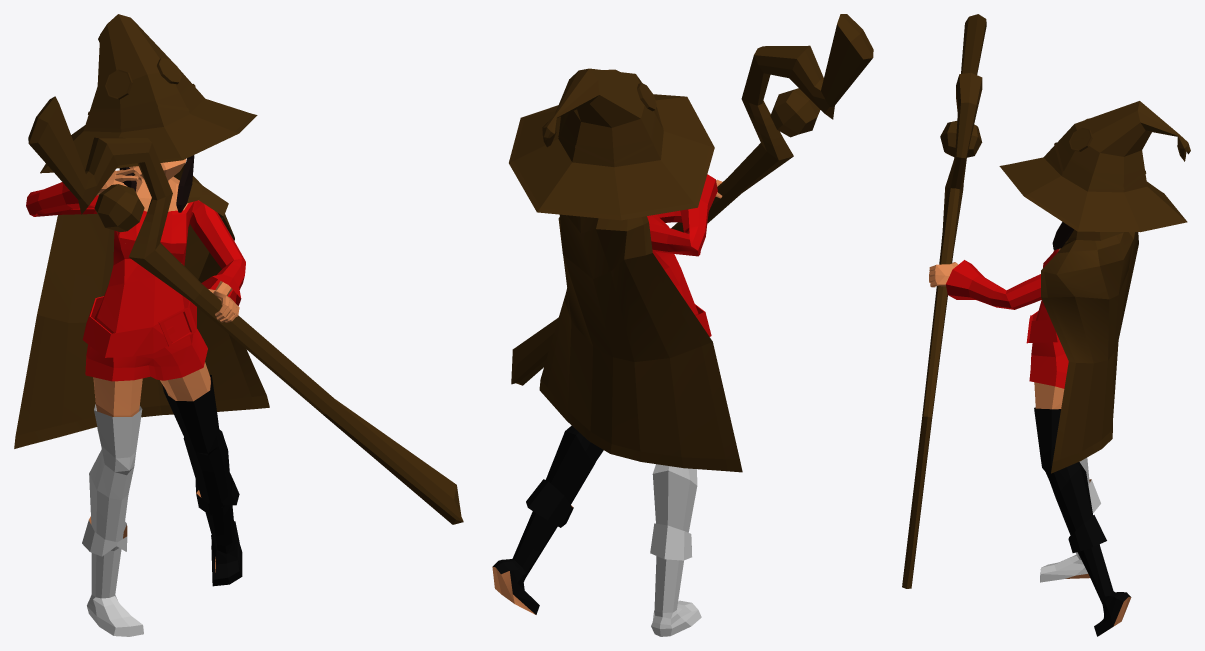
Rendered from megumi3.obj.
The picture shows the model from 3 angles, left to right: view 1: azimuth 30°, elevation 25°; view 2: azimuth 150°, elevation 25°; view 3: azimuth 270°, elevation 25°; orthographic projection. The views are drawn at different scales.
Parts seen in each view (by area): view 1: Cape__0, Staff__0, Shirt_Material_0, Shoes_Material_0, Hat__0, Body_Material_0, Hair_Material_0; view 2: Cape__0, Hat__0, Staff__0, Shoes_Material_0, Shirt_Material_0; view 3: Cape__0, Hat__0, Staff__0, Shoes_Material_0, Shirt_Material_0, Body_Material_0, Handshoes_Material_0.
Boxes of the visible parts, x1,y1,x2,y2 form: Cape__0: (14, 163, 269, 448); Staff__0: (28, 96, 463, 524); Shirt_Material_0: (26, 182, 245, 381); Shoes_Material_0: (82, 374, 242, 636); Hat__0: (40, 14, 257, 173); Body_Material_0: (93, 159, 237, 572); Hair_Material_0: (119, 155, 194, 212); Cape__0: (539, 214, 742, 472); Hat__0: (509, 68, 714, 220); Staff__0: (511, 14, 873, 385); Shoes_Material_0: (492, 425, 701, 636); Shirt_Material_0: (647, 174, 717, 336); Cape__0: (1041, 229, 1138, 473); Hat__0: (999, 101, 1190, 232); Staff__0: (902, 14, 986, 588); Shoes_Material_0: (1034, 407, 1131, 636); Shirt_Material_0: (946, 249, 1068, 388); Body_Material_0: (929, 248, 1064, 409); Handshoes_Material_0: (929, 262, 957, 286).
Bounding box in the file's own units: 3.62 × 5.24 × 2.64.
